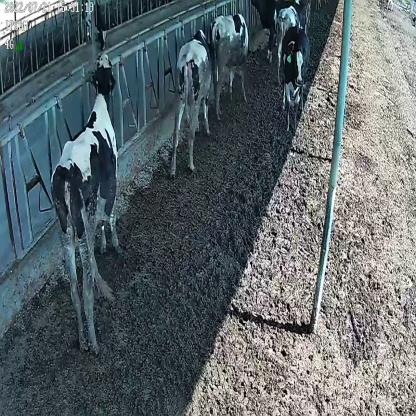cow: (51, 51, 120, 350), (169, 26, 211, 177), (210, 14, 250, 124), (281, 26, 310, 130), (272, 4, 302, 58)
